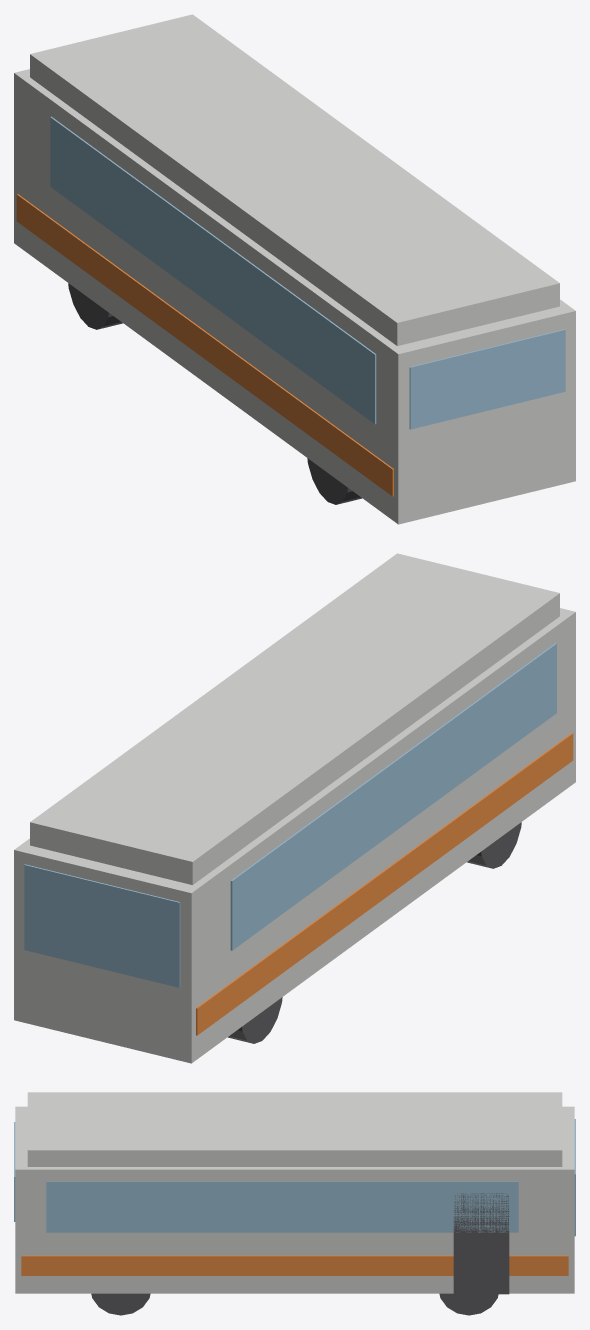
The model's file is bus.glb.
3 renders of one model, top to bottom at view 1: azimuth 30°, elevation 25°; view 2: azimuth 150°, elevation 25°; view 3: azimuth 270°, elevation 25°, orthographic. The views are drawn at different scales.
Visible parts, largest first — view 1: bus; view 2: bus; view 3: bus.
Boxes of the visible parts, x1=… form: bus: x1=14, y1=14, x2=575, y2=524; bus: x1=14, y1=553, x2=575, y2=1063; bus: x1=14, y1=1092, x2=575, y2=1315.
Size of the model in its own units: 2.46 by 2.9 by 9.04.
